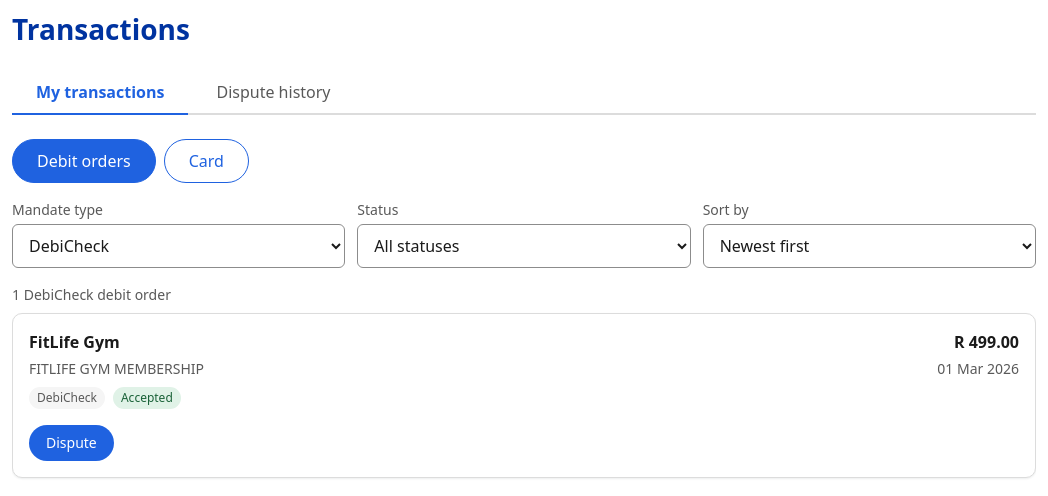
transaction type tabs › switches to card transactions, asking the API for that type only
expect the list named "Debit orders" is shown: met, box top-left (12, 313), bottom-right (1036, 478)
Click the tab "Card" at (206, 161), box top-left (164, 139), bottom-right (249, 183)
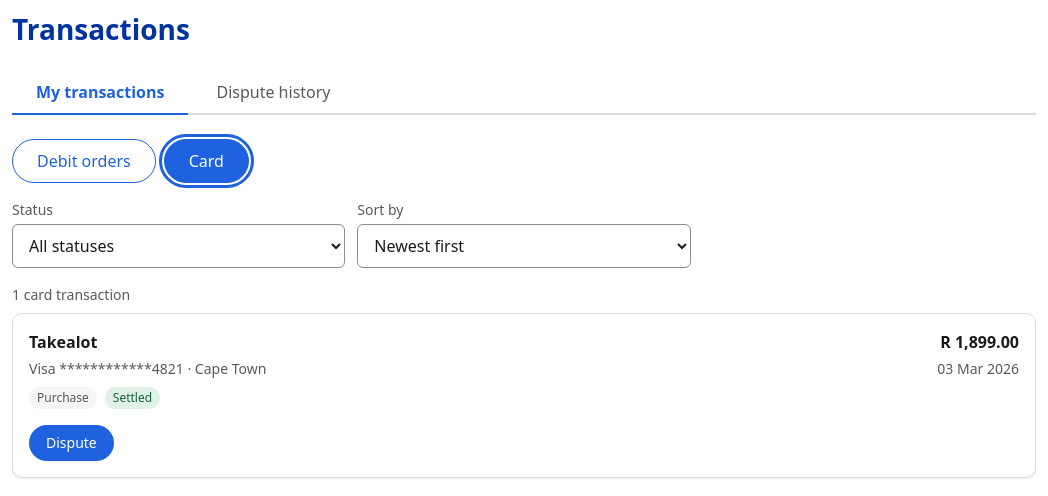
expect the list named "Card transactions" is shown: met, box top-left (12, 313), bottom-right (1036, 478)
